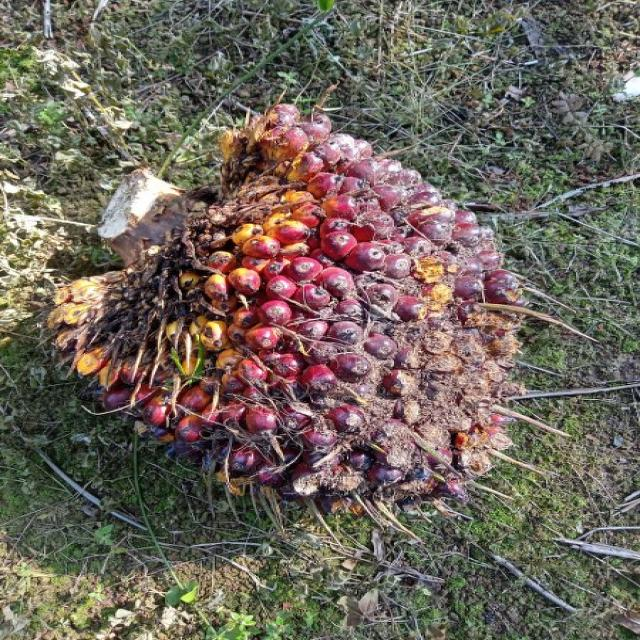fraksi 1: (18, 85, 568, 550)
